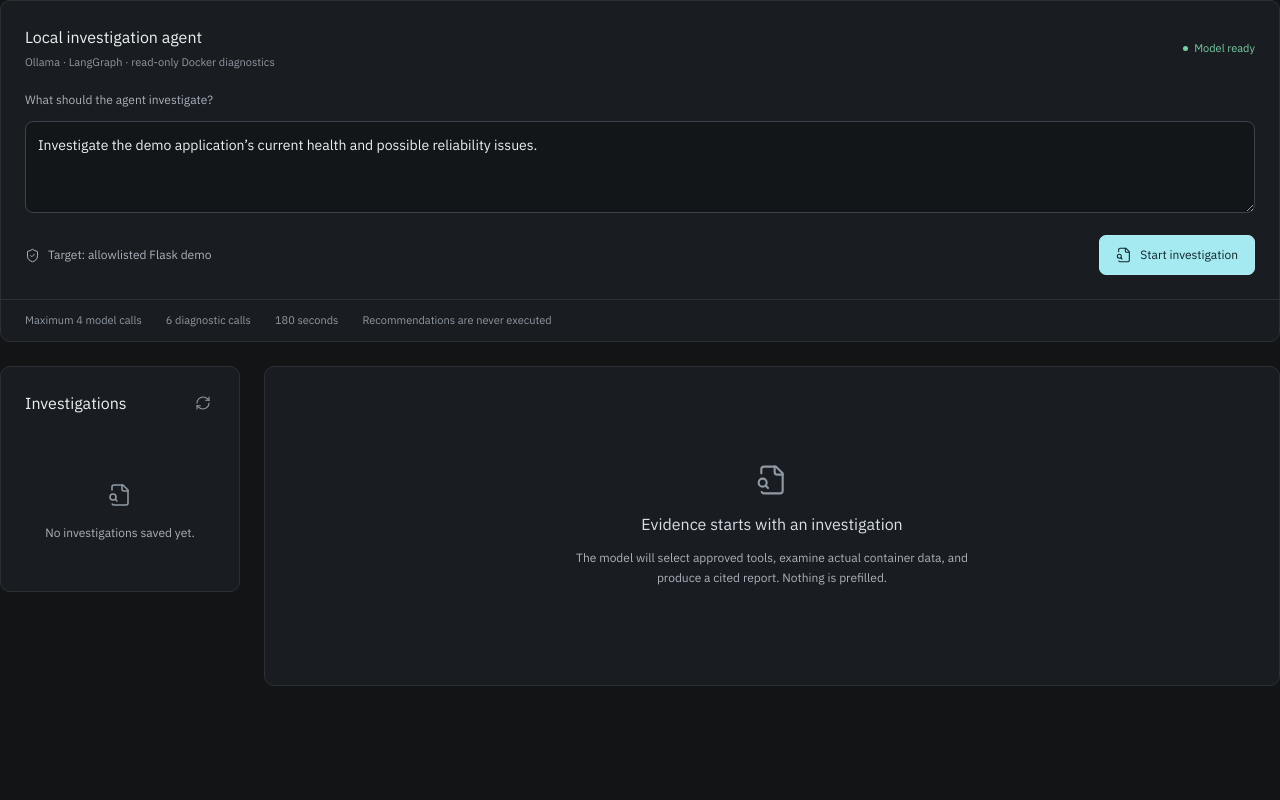
Test: starts a real API request and displays tools, evidence and returned report
Check: the text "Model ready" is shown, box [1183, 40, 1255, 56]
Click the button "Start investigation": (1177,255) [1099, 235, 1255, 275]
(page scrolled)
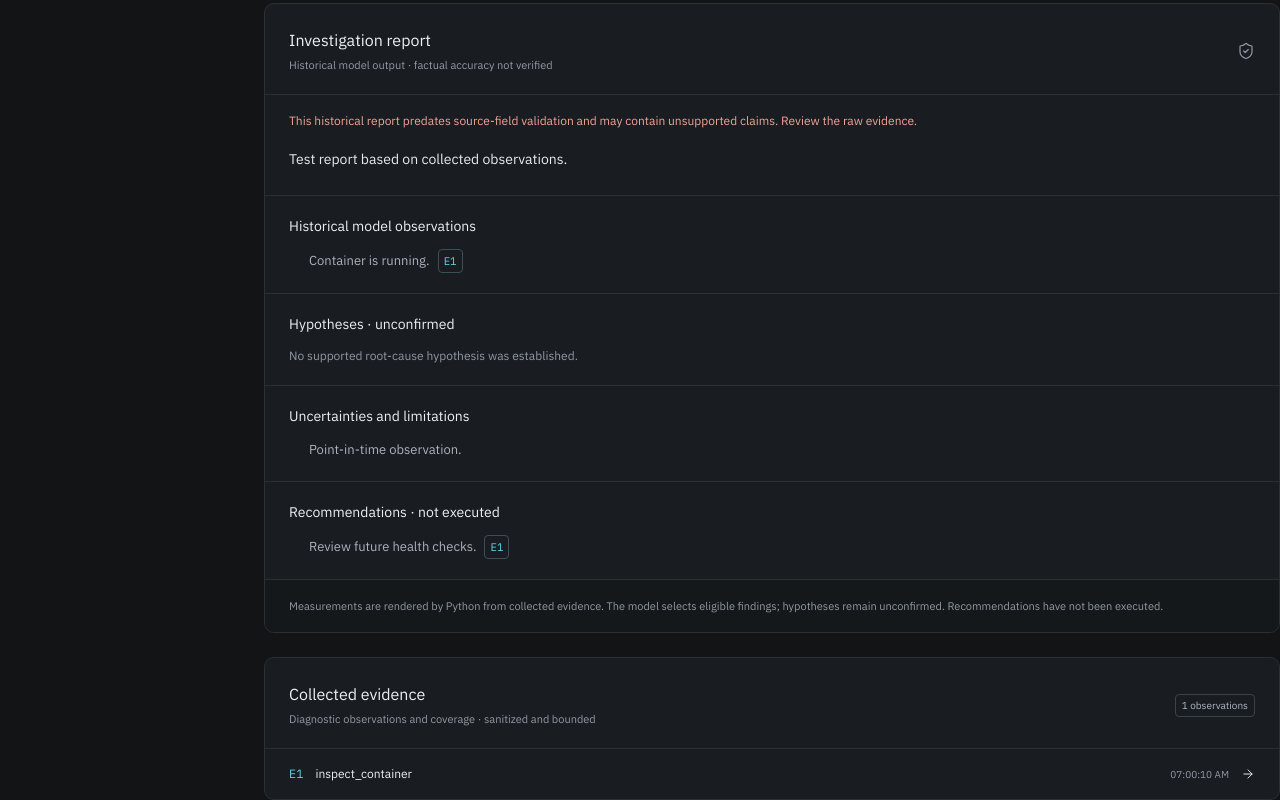
Check: the text "Test report based on collected observations." is shown, box [289, 150, 567, 168]
Check: the list item "Container is running." is shown, box [309, 252, 430, 269]
Check: the list item "Point-in-time observation." is shown, box [309, 441, 462, 458]
